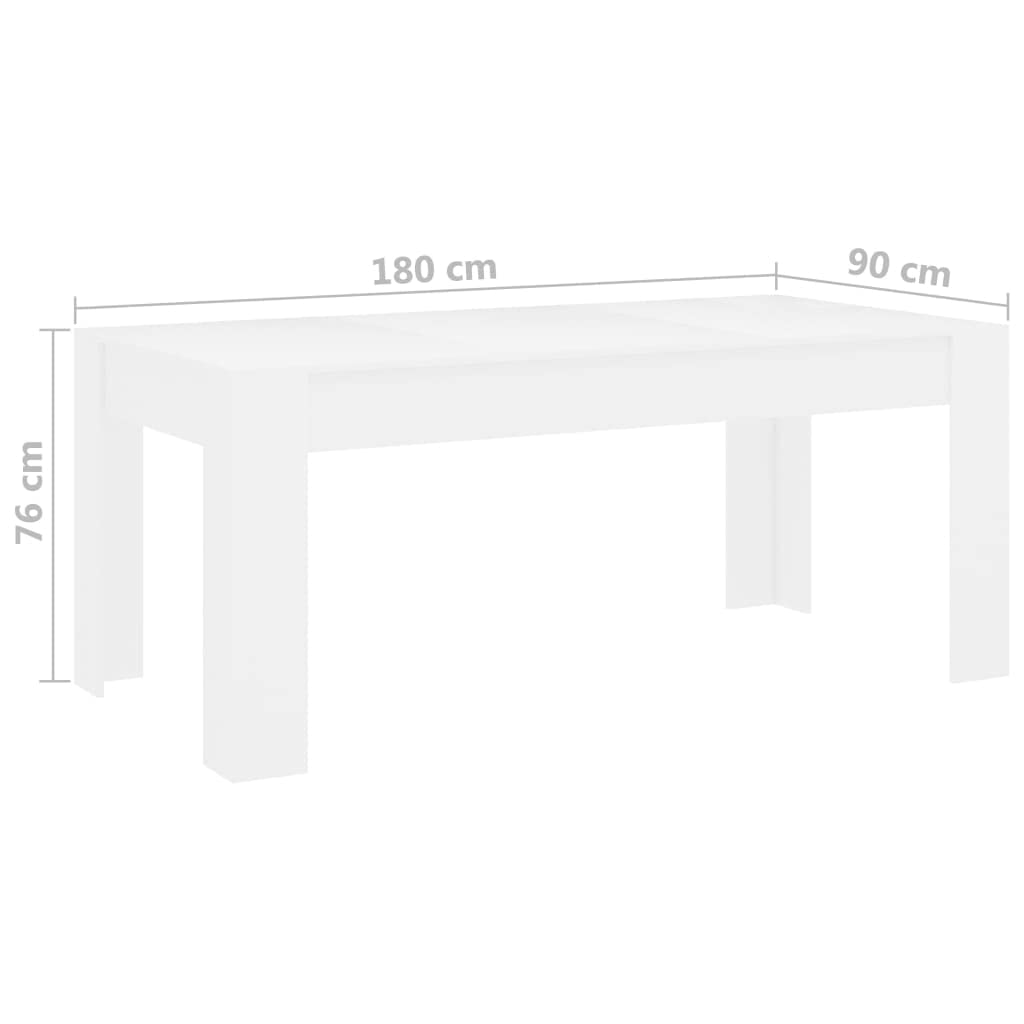180: (372, 254, 435, 286)
90: (848, 248, 890, 279)
cm: (900, 262, 951, 288), (446, 259, 496, 281)
